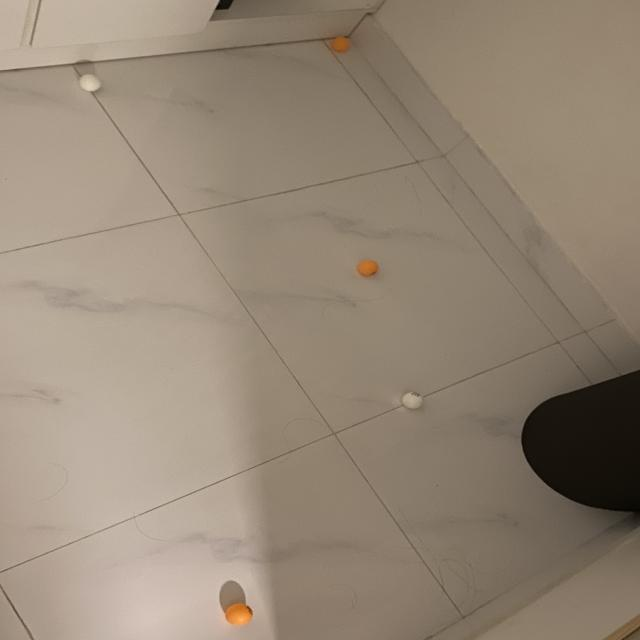ping-pong-ball: (224, 602, 254, 626), (78, 74, 104, 94), (401, 391, 426, 411), (357, 259, 380, 278), (332, 37, 351, 54)
